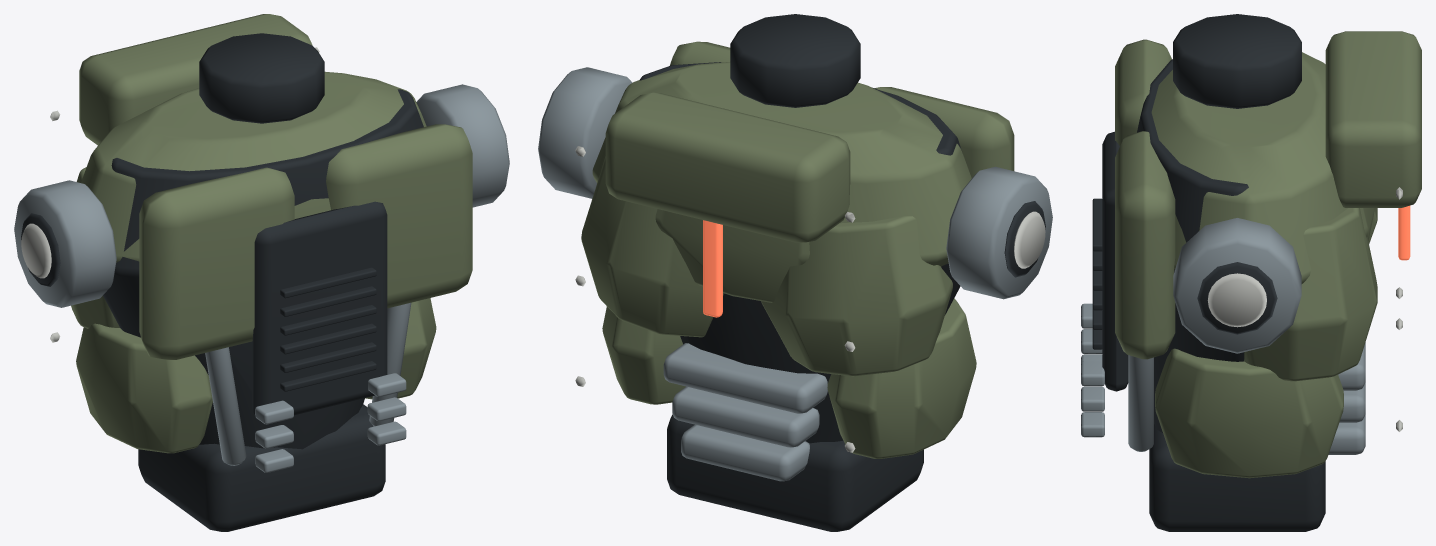
Rendered from torsos_07.glb.
3 renders of one model, left to right at view 1: azimuth 30°, elevation 25°; view 2: azimuth 150°, elevation 25°; view 3: azimuth 270°, elevation 25°, orthographic. The views are drawn at different scales.
Visible parts, largest first — view 1: torsos_07_Geometry; view 2: torsos_07_Geometry; view 3: torsos_07_Geometry.
Part boxes in pixels (<box>): torsos_07_Geometry: <box>14,14,509,531</box>; torsos_07_Geometry: <box>538,14,1052,531</box>; torsos_07_Geometry: <box>1081,14,1421,531</box>.
Size of the model in its own units: 0.692 by 0.625 by 0.425.
